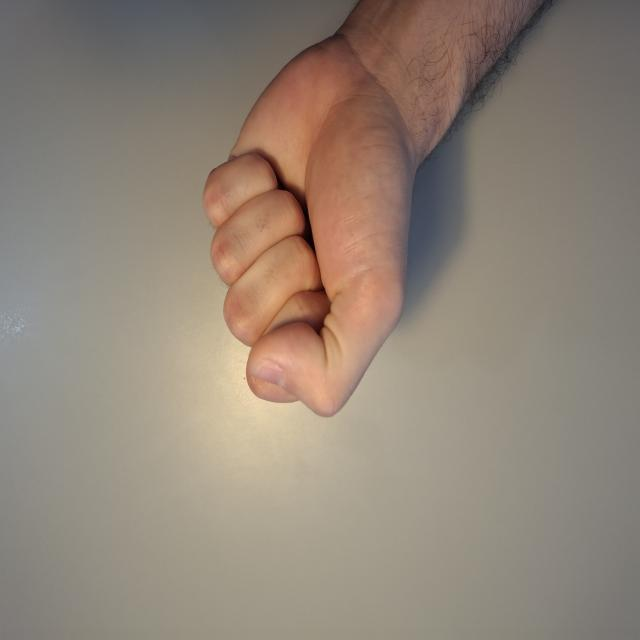glove_off: (198, 17, 435, 420)
